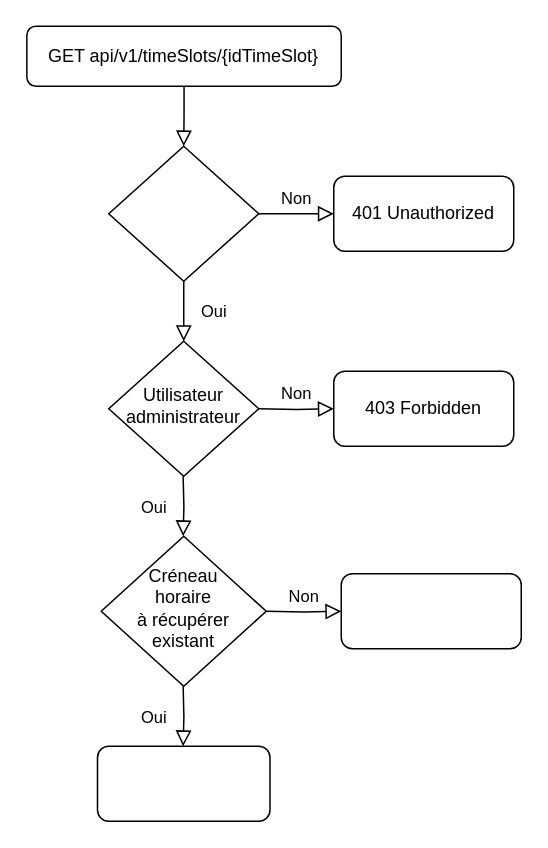
This 548x848 diagram has some shape labels left out. The shapes that lost their labels are listed below. From the top down, each one's box as (x1, y1, x2, y2) in pixels, then its label:
(107, 145, 259, 281): Header Authorization présent
(340, 572, 521, 649): 404 Not Found
(96, 745, 270, 821): 200 OK Avec résultat en JSON
